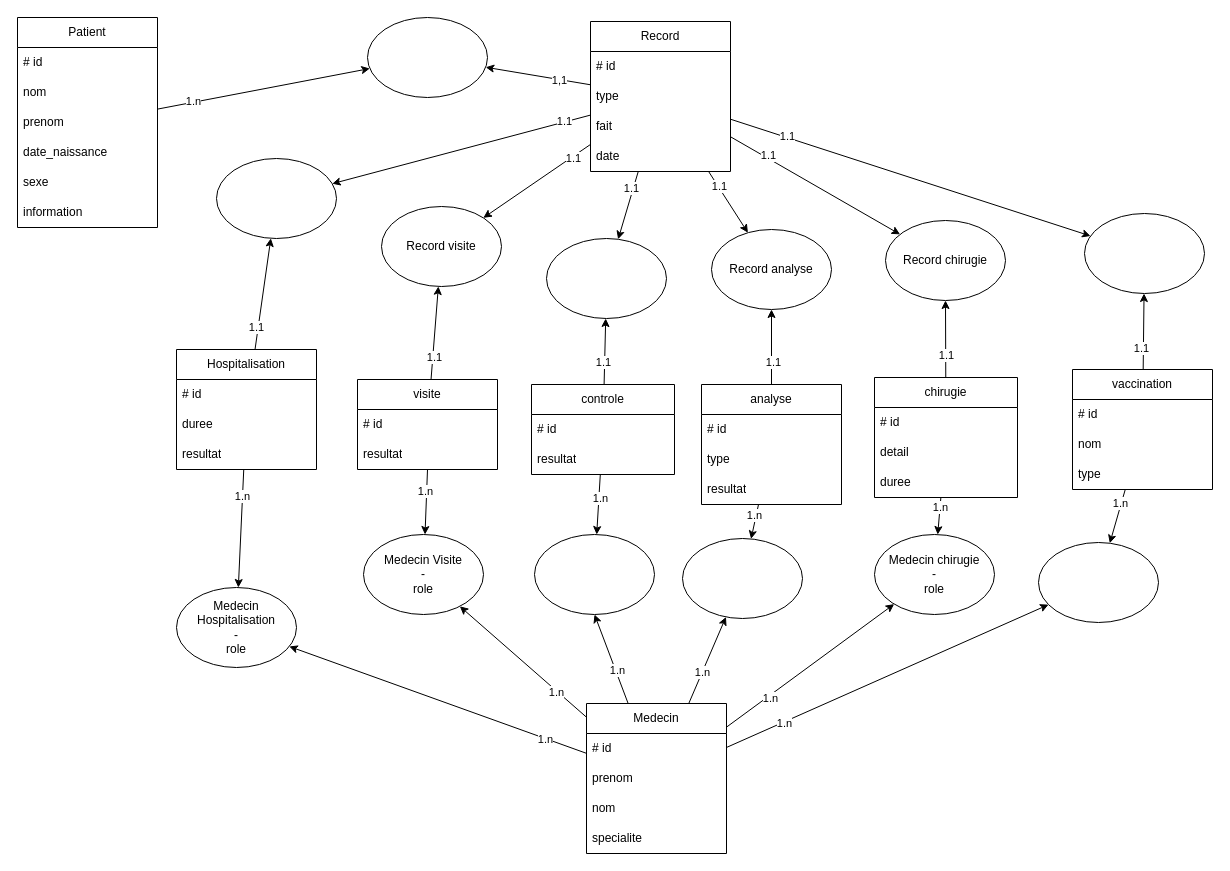
Image size: 1230x871. Some labels were removed from this diagram. The centre of each missing label's shape, as x and y in pixels:
Dossier medicale: (x=427, y=57)
Medecin Analyse - role: (x=742, y=578)
Medecin Control - role: (x=594, y=574)
Medecin Vaccination - role: (x=1098, y=582)
Record controle: (x=606, y=278)
Record hospitalisation: (x=276, y=198)
Record vaccination: (x=1144, y=253)
